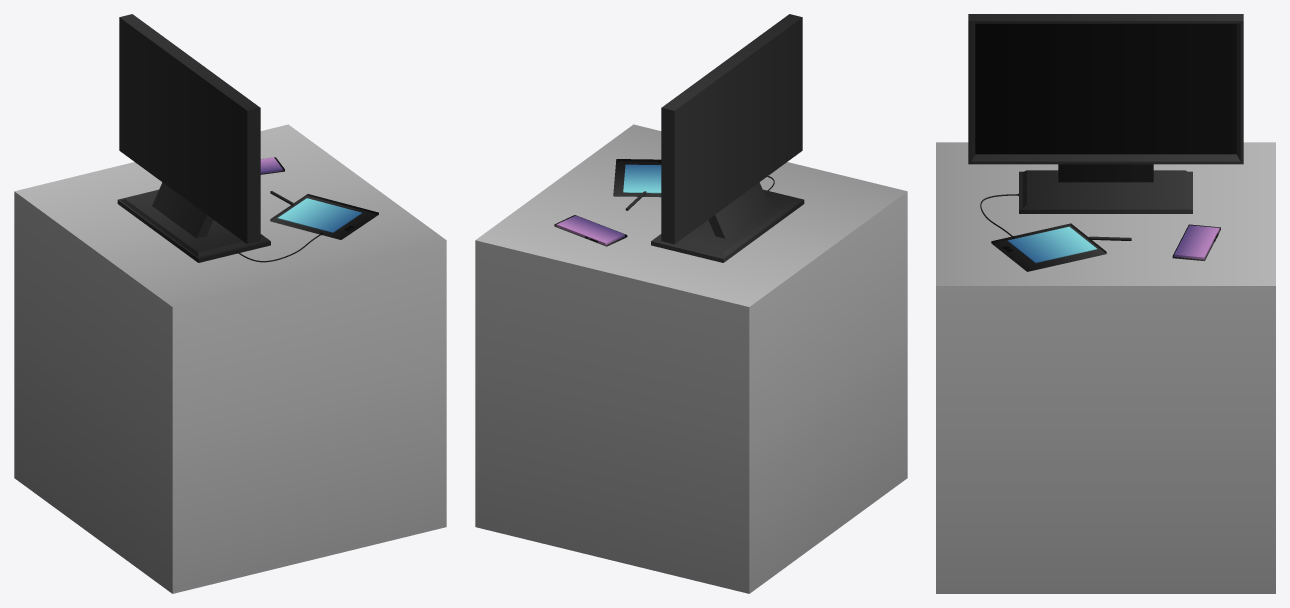
Rendered from artblock.fbx.
3 renders of one model, left to right at view 1: azimuth 30°, elevation 25°; view 2: azimuth 150°, elevation 25°; view 3: azimuth 270°, elevation 25°, orthographic. The views are drawn at different scales.
Visible parts, largest first — view 1: ArtBlock, Monitor, TabletScreen, TabletBase; view 2: ArtBlock, Monitor, TabletScreen, PhoneScreen, TabletBase; view 3: ArtBlock, Monitor, TabletScreen, TabletBase, PhoneScreen.
Part boxes in pixels (bbox=[...]): ArtBlock: bbox=[14, 124, 446, 593]; Monitor: bbox=[117, 14, 270, 262]; TabletScreen: bbox=[277, 198, 361, 232]; TabletBase: bbox=[270, 194, 378, 239]; ArtBlock: bbox=[475, 124, 907, 593]; Monitor: bbox=[651, 14, 804, 262]; TabletScreen: bbox=[623, 164, 661, 193]; PhoneScreen: bbox=[556, 215, 624, 245]; TabletBase: bbox=[613, 159, 661, 197]; ArtBlock: bbox=[936, 142, 1275, 593]; Monitor: bbox=[968, 14, 1243, 213]; TabletScreen: bbox=[1007, 226, 1096, 263]; TabletBase: bbox=[991, 223, 1106, 271]; PhoneScreen: bbox=[1174, 225, 1219, 259].
Bounding box in the file's own units: 200 × 314 × 200.
